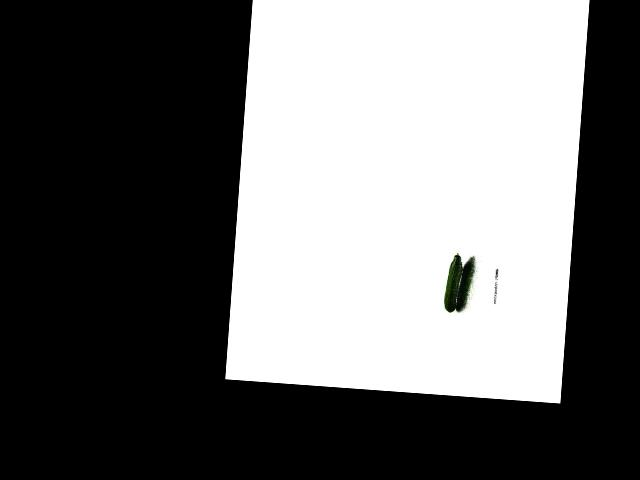cucumber: (443, 252, 463, 312)
